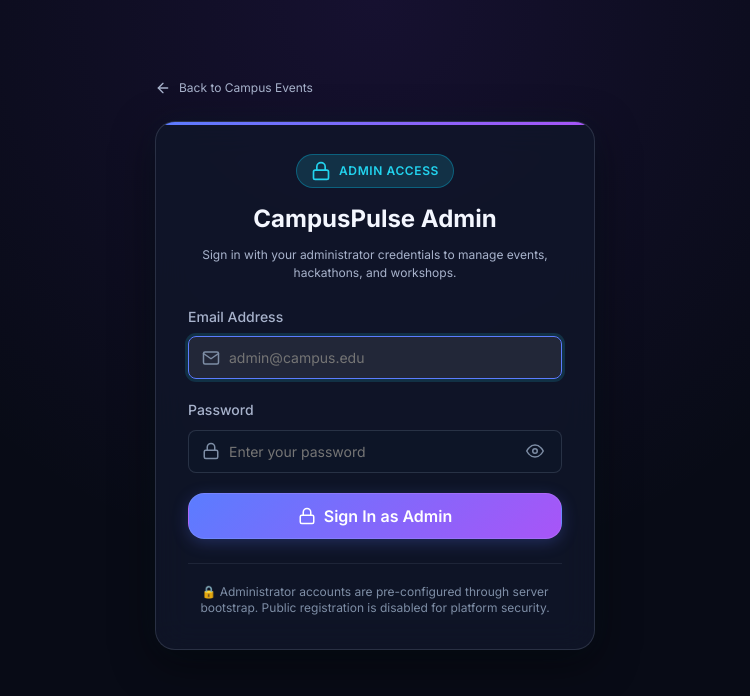
Test: AdminLoginPage Component › validates required fields before submitting
Click the button "Sign In as Admin": (375, 516) [188,493,562,539]
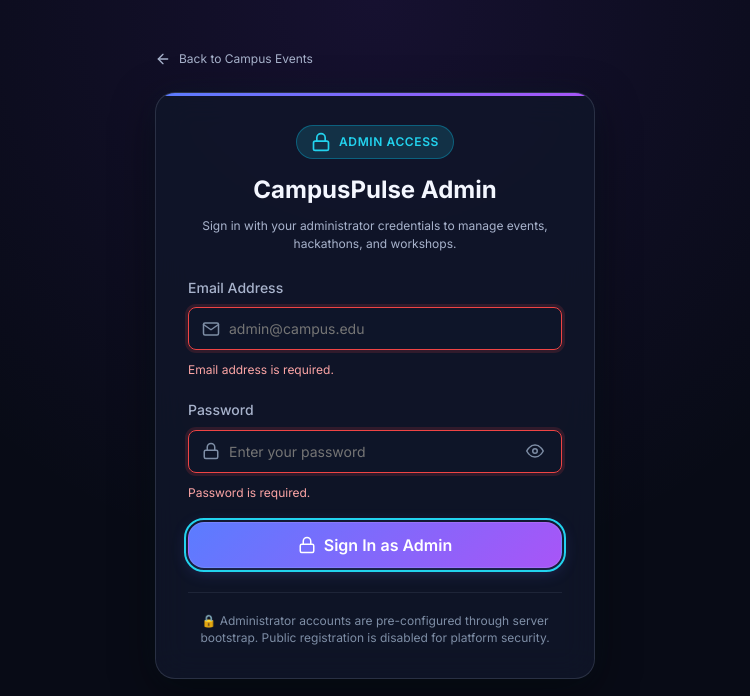
Expected: the text "Email address is required." is shown, [188,362,334,377]
Expected: the text "Password is required." is shown, [188,485,310,500]
